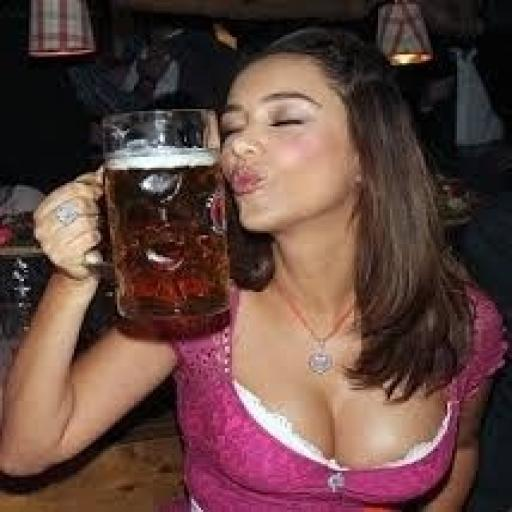drinking: (96, 107, 232, 331)
